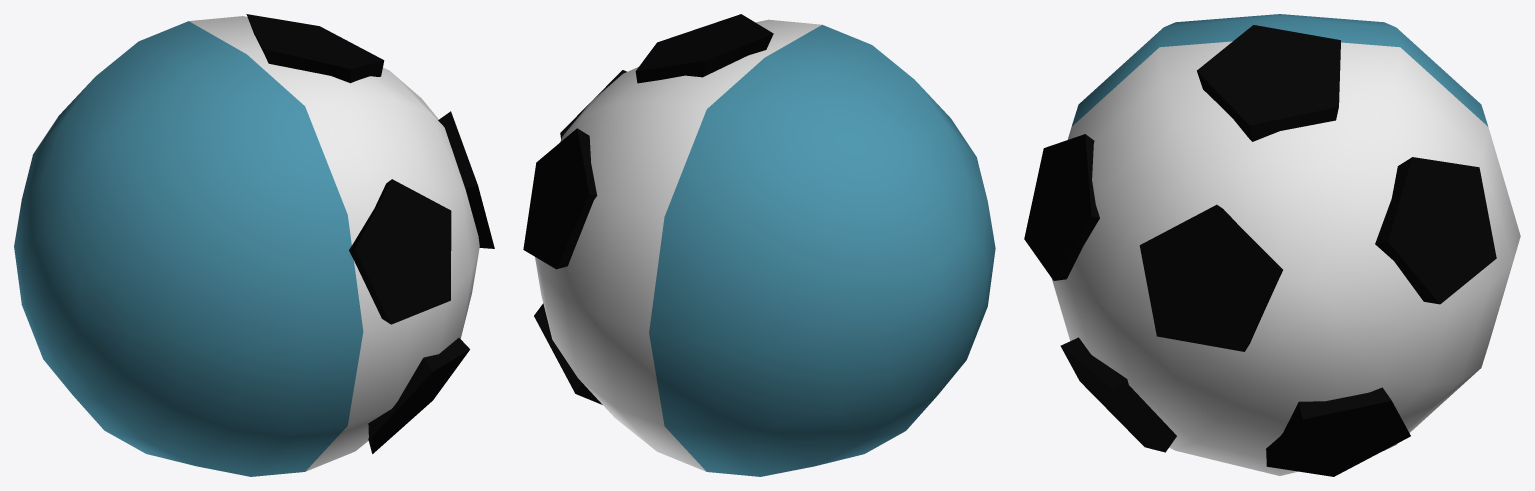
File: Ball_Earth.fbx
3 renders of one model, left to right at view 1: azimuth 30°, elevation 25°; view 2: azimuth 150°, elevation 25°; view 3: azimuth 270°, elevation 25°, orthographic. The views are drawn at different scales.
Visible parts, largest first — view 1: Ball_Earth; view 2: Ball_Earth; view 3: Ball_Earth.
Boxes of the visible parts, left/top/right/bottom form: Ball_Earth: left=14, top=14, right=494, bottom=476; Ball_Earth: left=523, top=14, right=995, bottom=476; Ball_Earth: left=1024, top=14, right=1520, bottom=476.
Bounding box in the file's own units: 87.28 × 83.65 × 87.25.
